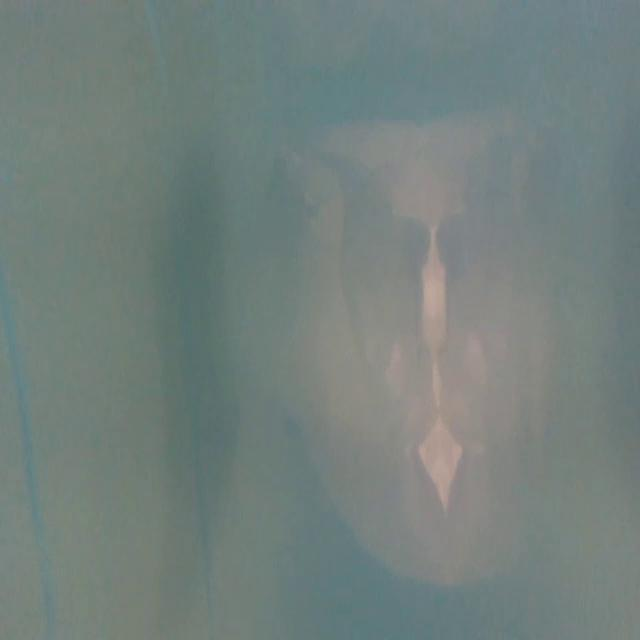plastic bottle: (222, 73, 518, 607)
